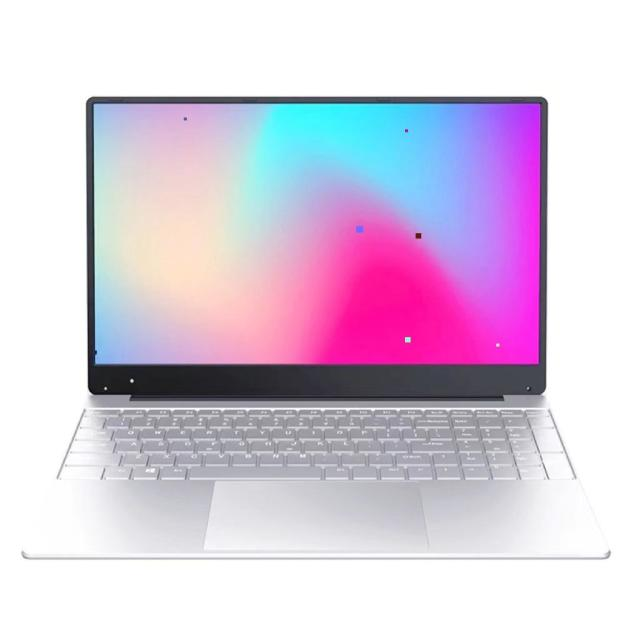dead_pixel: (356, 226, 362, 232), (416, 233, 421, 238), (405, 337, 410, 342), (405, 129, 408, 132), (496, 344, 499, 346), (184, 117, 186, 120)
